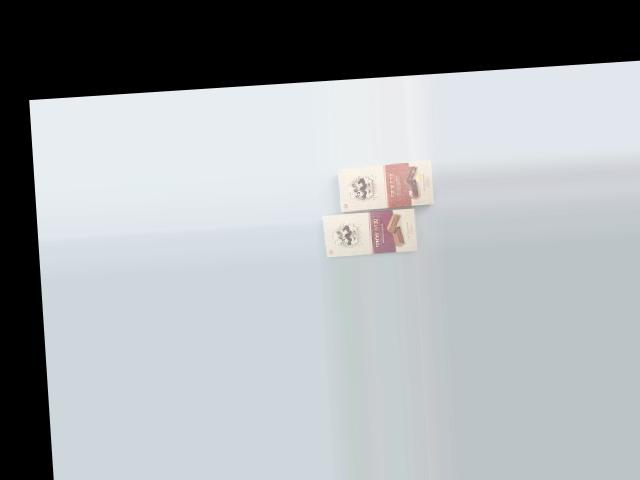chocolate: (333, 158, 437, 221)
